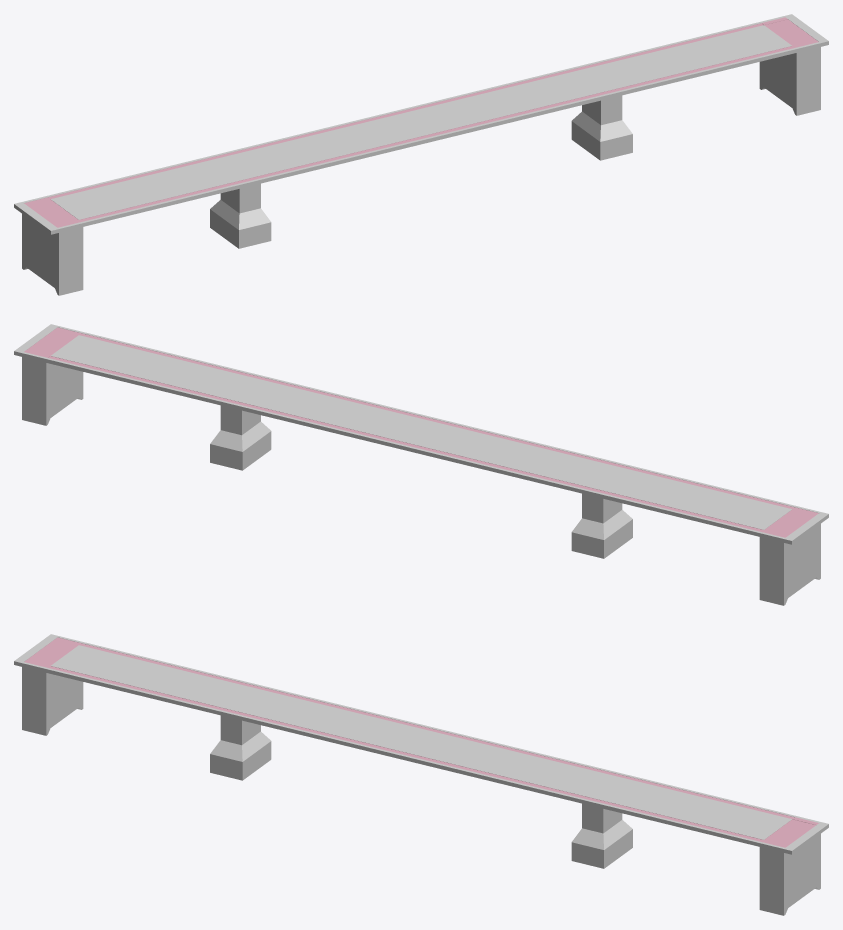
Rendered from BIURECZKO.fbx.
The picture shows the model from 3 angles, top to bottom: view 1: azimuth 30°, elevation 25°; view 2: azimuth 150°, elevation 25°; view 3: azimuth 330°, elevation 25°; orthographic projection.
Parts seen in each view (by area): view 1: Cube.001; view 2: Cube.001; view 3: Cube.001.
Part boxes in pixels (x1,y1,x2,y2): Cube.001: (14,14,828,295); Cube.001: (14,324,828,605); Cube.001: (14,634,828,915).
Bounding box in the file's own units: 1300 × 108 × 107.
